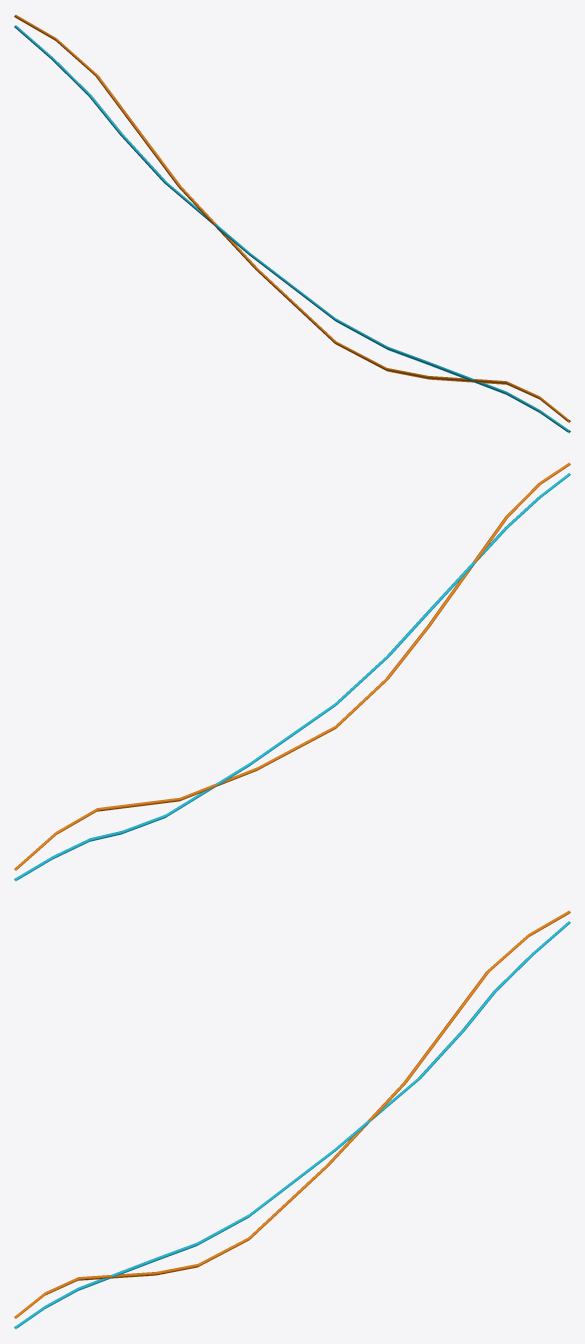
Rendered from cable wall 2b.FBX.
The picture shows the model from 3 angles, top to bottom: view 1: azimuth 30°, elevation 25°; view 2: azimuth 150°, elevation 25°; view 3: azimuth 330°, elevation 25°; orthographic projection.
Parts seen in each view (by area): view 1: Box535; view 2: Box535; view 3: Box535.
Part boxes in pixels (x1,y1,x2,y2): Box535: (14,14,570,433); Box535: (14,462,570,881); Box535: (14,910,570,1329).
Bounding box in the file's own units: 0.014 × 0.4065 × 4.
